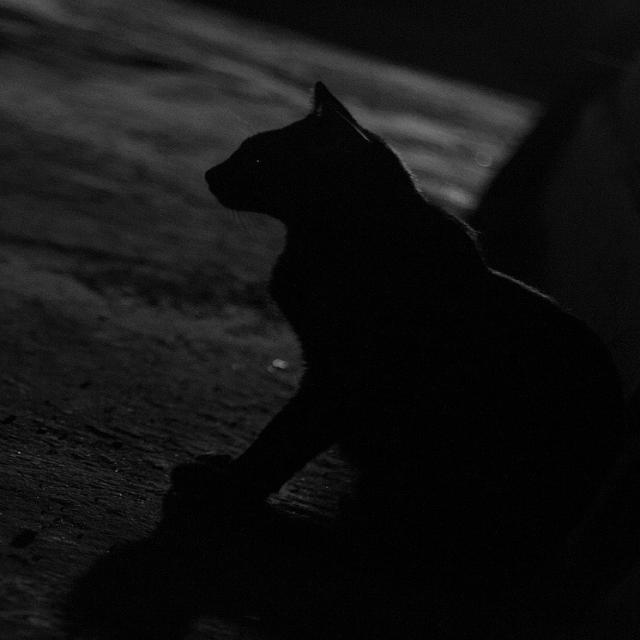Cat: (180, 65, 640, 639)
